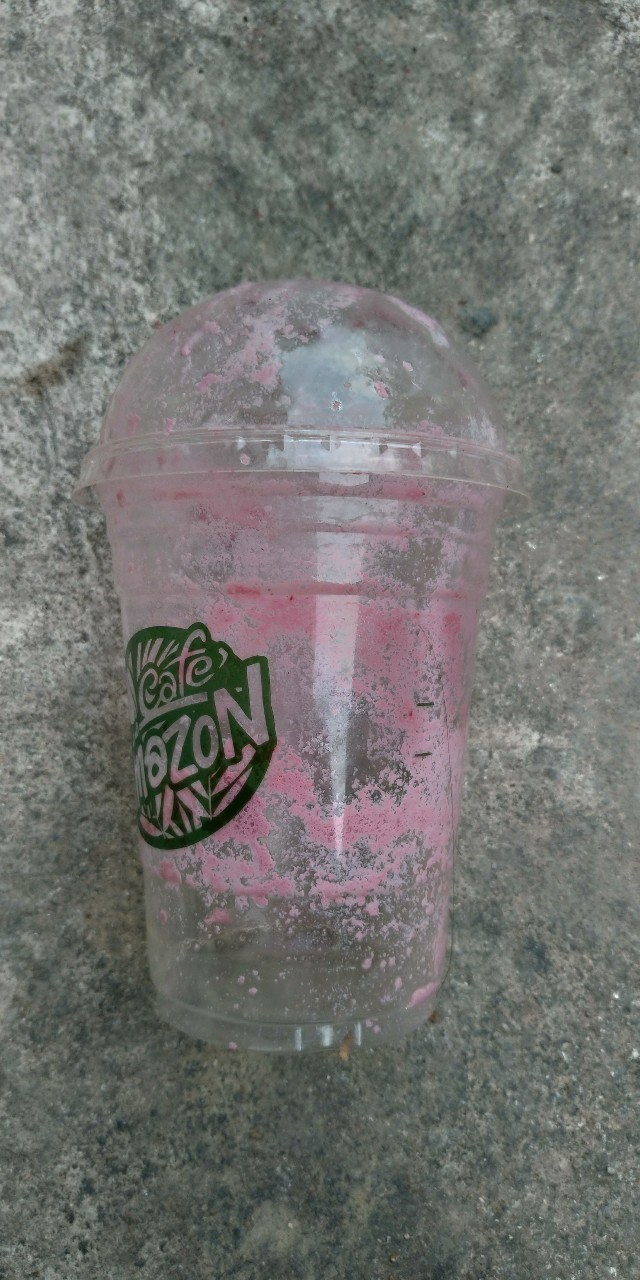PlasticCup: (80, 272, 529, 1057)
